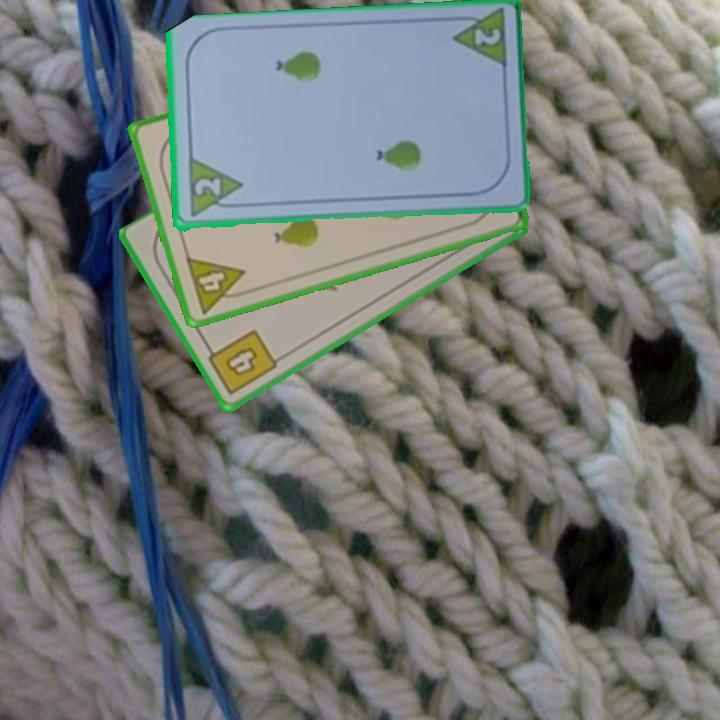2p: (184, 156, 245, 221), (470, 25, 504, 49)
4b: (202, 326, 281, 399)
4p: (182, 253, 253, 317)
